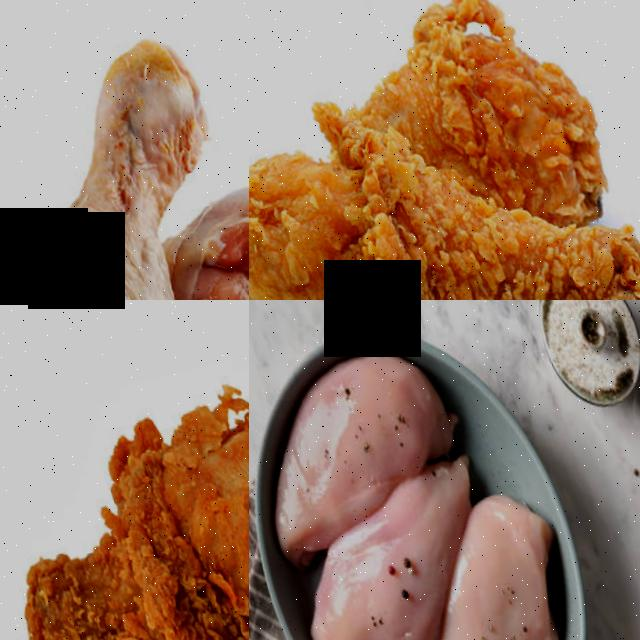chicken breast: (249, 481, 476, 640), (249, 346, 447, 495), (410, 511, 628, 640)
chicken thigh: (0, 356, 249, 640), (0, 33, 249, 300)
